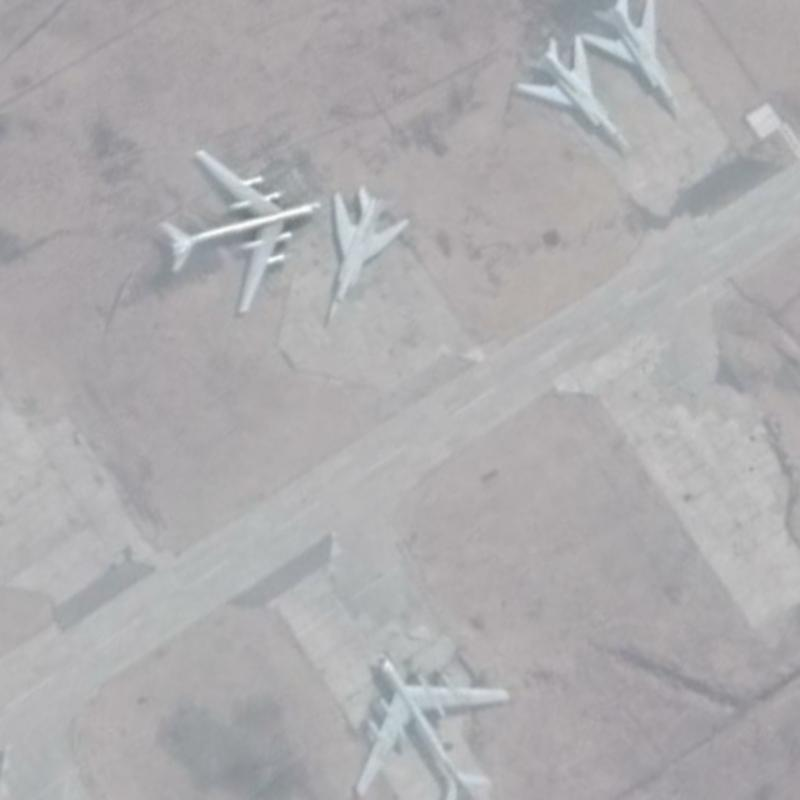A12: (512, 32, 632, 152), (579, 0, 684, 117), (325, 182, 412, 322)
A17: (160, 147, 324, 315), (353, 652, 512, 799)
